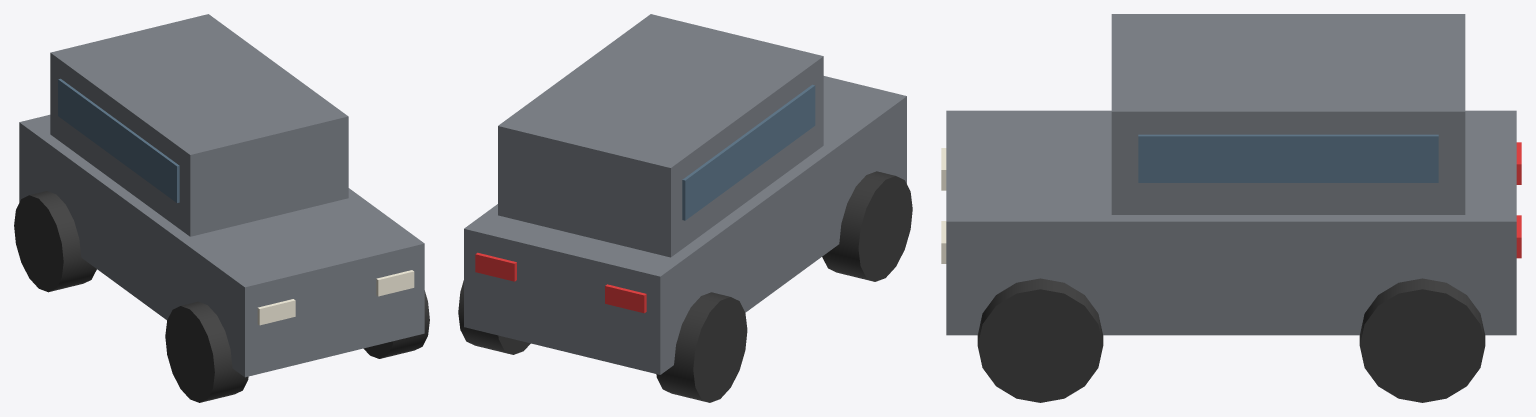
The model's file is suv.glb.
The picture shows the model from 3 angles, left to right: view 1: azimuth 30°, elevation 25°; view 2: azimuth 150°, elevation 25°; view 3: azimuth 270°, elevation 25°; orthographic projection. The views are drawn at different scales.
Visible parts, largest first — view 1: suv; view 2: suv; view 3: suv.
Boxes of the visible parts, box(x1,y1,x2,y2) form: suv: box(14, 14, 429, 402); suv: box(458, 14, 912, 402); suv: box(941, 14, 1521, 402).
Bounding box in the file's own units: 0.55 × 0.53 × 1.02.
